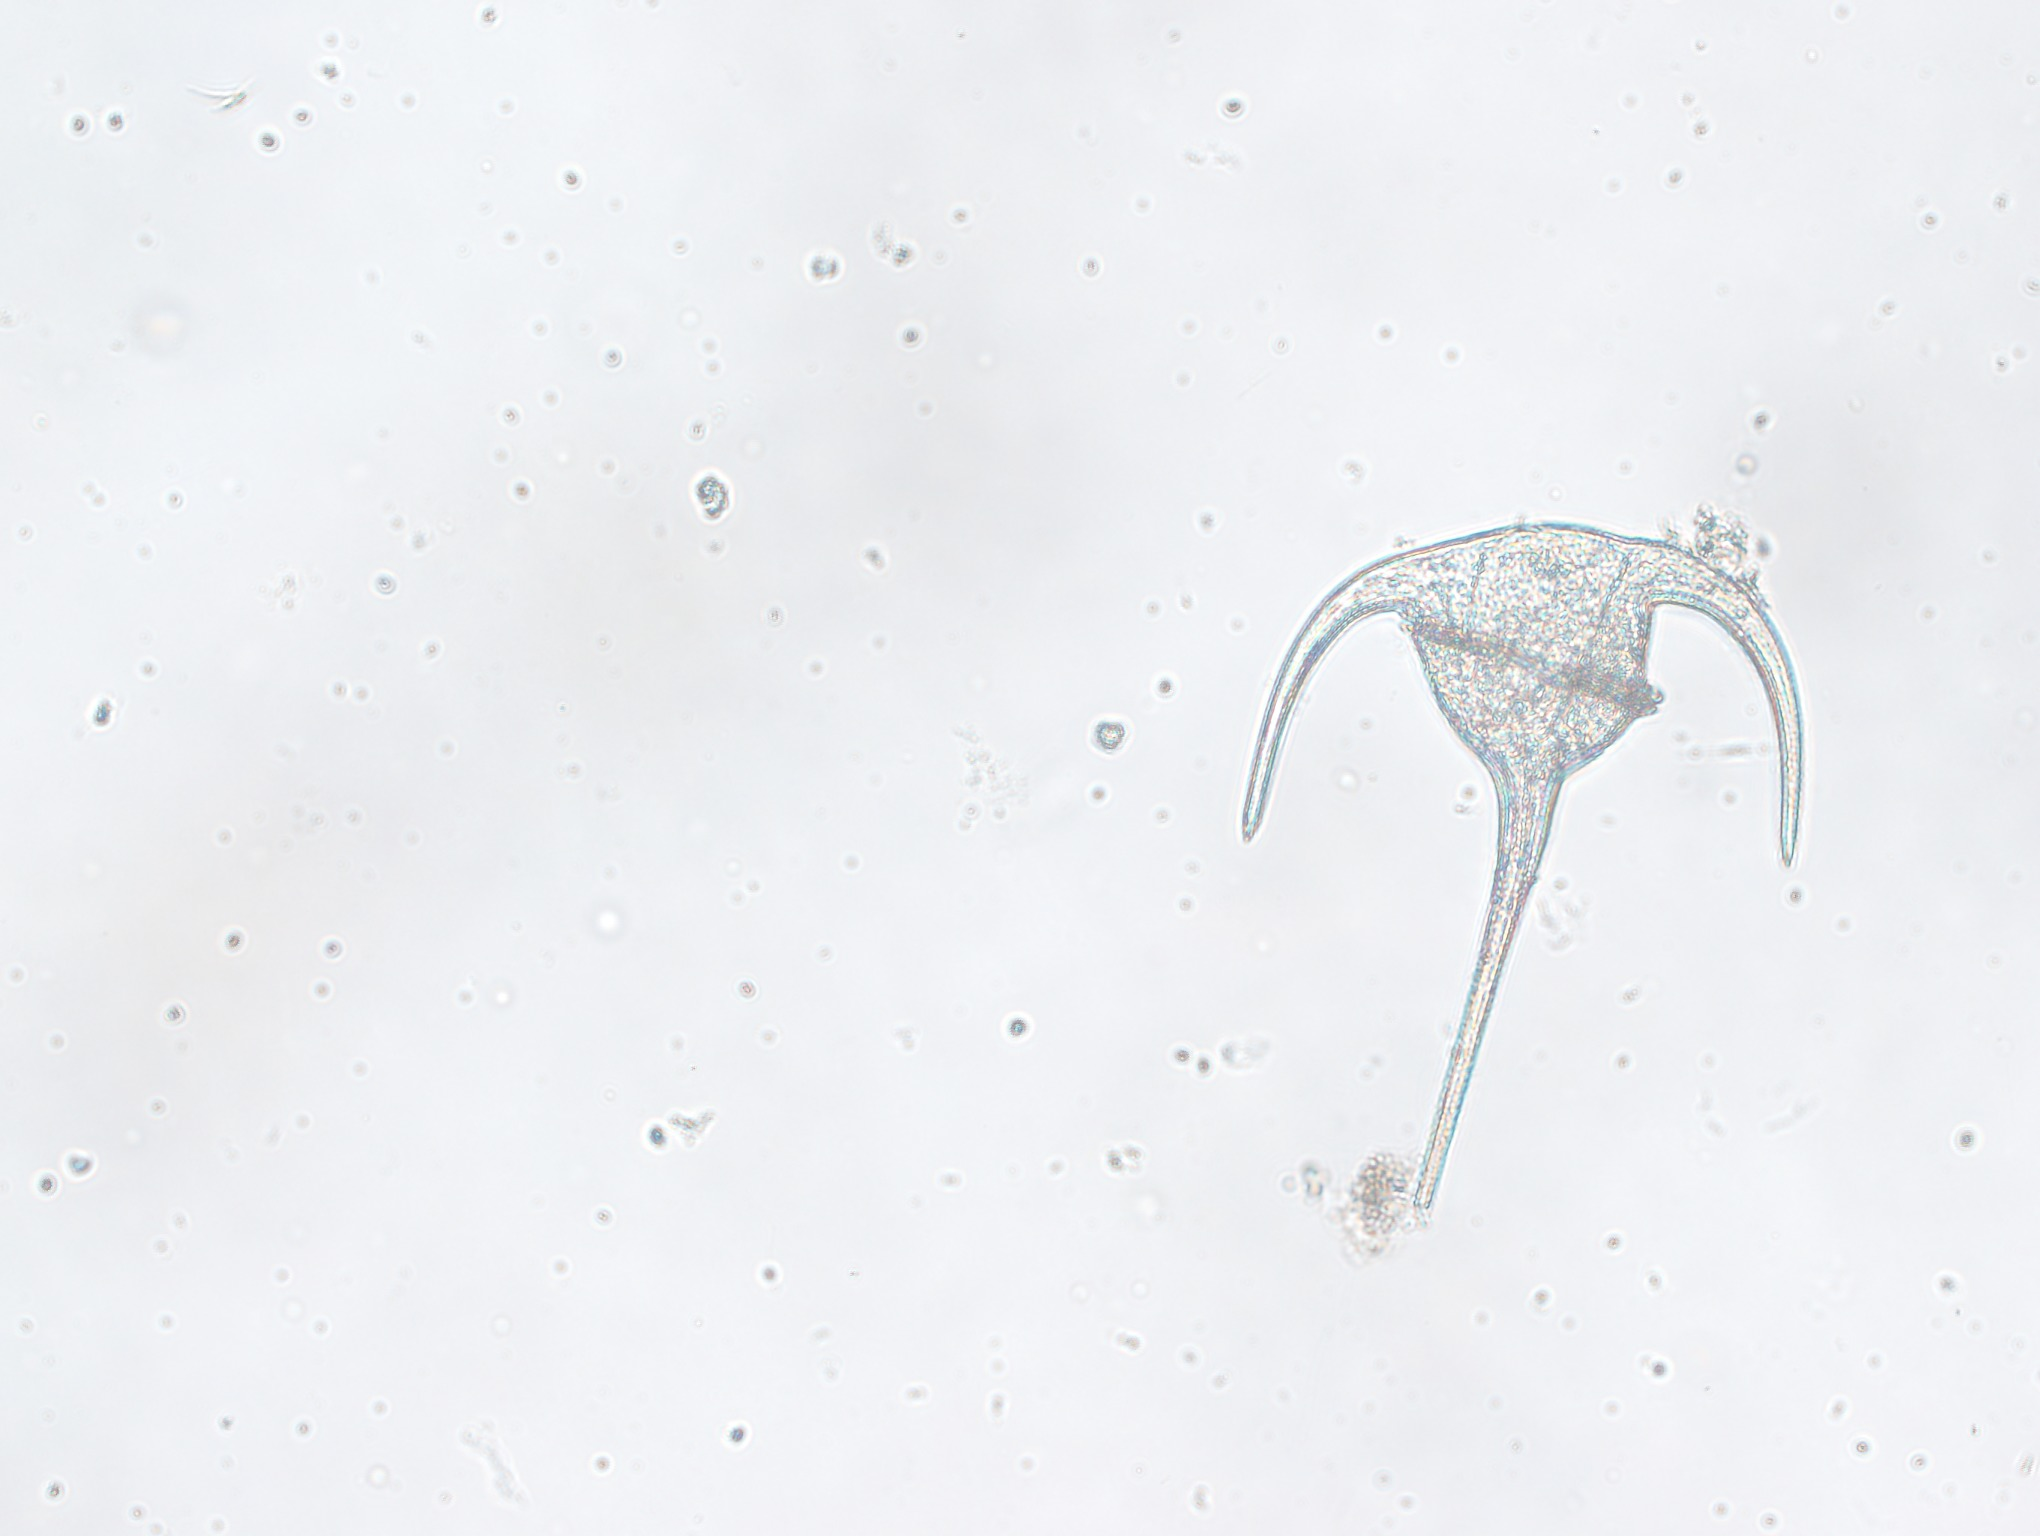ceratium tripos: (1214, 515, 1832, 1220)
